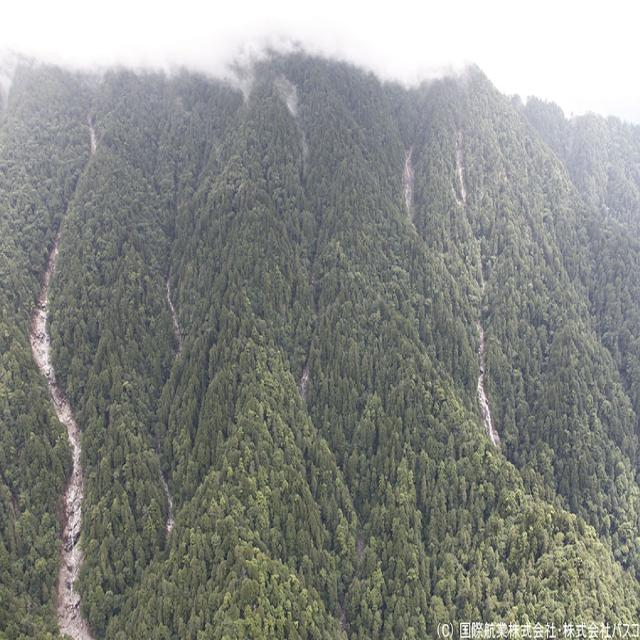Debris-flow: (30, 232, 91, 640), (478, 322, 500, 447), (166, 278, 182, 357), (402, 150, 415, 220), (458, 135, 465, 203), (166, 484, 174, 535), (88, 116, 98, 153)
